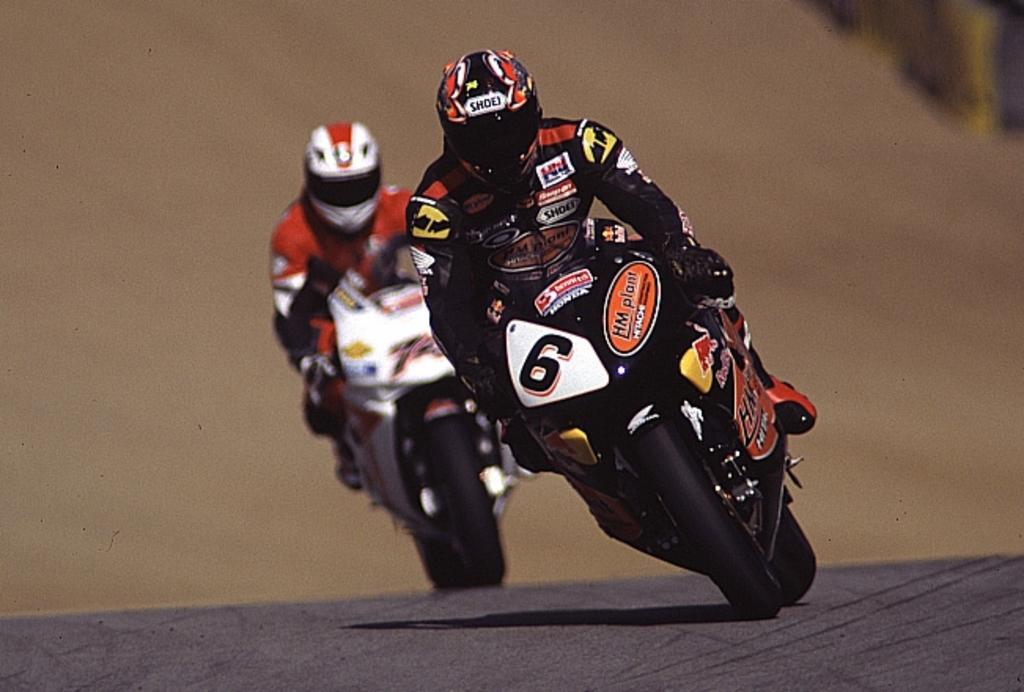helmet: (435, 49, 542, 195), (303, 120, 382, 235)
